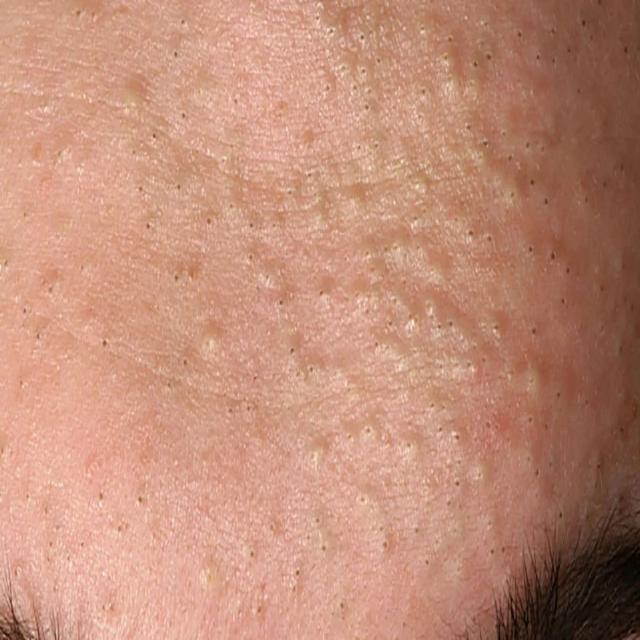Blackheads: (109, 36, 317, 441)
Oily-Skin: (30, 32, 640, 640)
